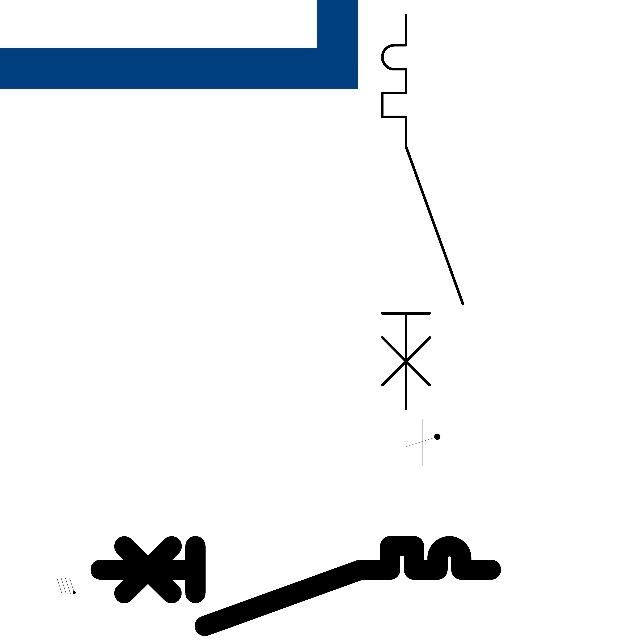interruptor_termomagnetico: (372, 5, 473, 419), (90, 536, 500, 636)
